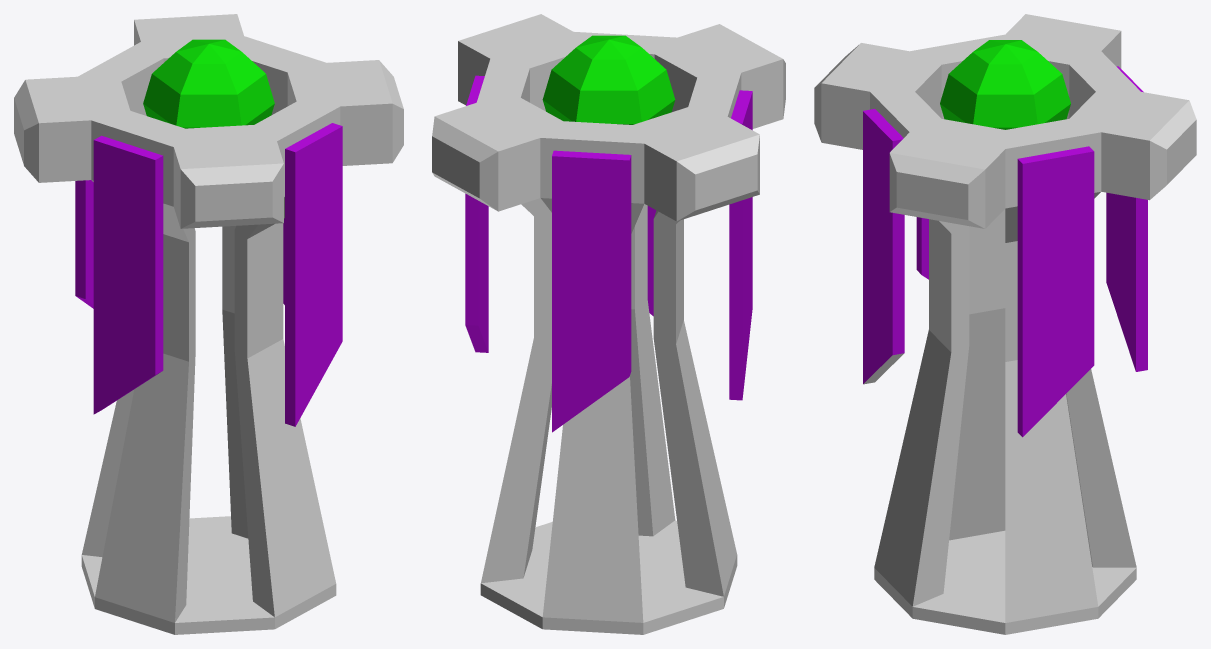
Rendered from mage_tower.fbx.
The picture shows the model from 3 angles, left to right: view 1: azimuth 30°, elevation 25°; view 2: azimuth 150°, elevation 25°; view 3: azimuth 270°, elevation 25°; orthographic projection.
Visible parts, largest first — view 1: Tower, Sphere; view 2: Tower, Sphere; view 3: Tower, Sphere.
Part boxes in pixels (box(x1,y1,x2,y2)): Tower: box(14, 14, 403, 634); Sphere: box(143, 39, 274, 128); Tower: box(432, 14, 785, 634); Sphere: box(542, 35, 675, 124); Tower: box(814, 14, 1196, 634); Sphere: box(940, 40, 1070, 129).
Bounding box in the file's own units: 291 × 450 × 291.
